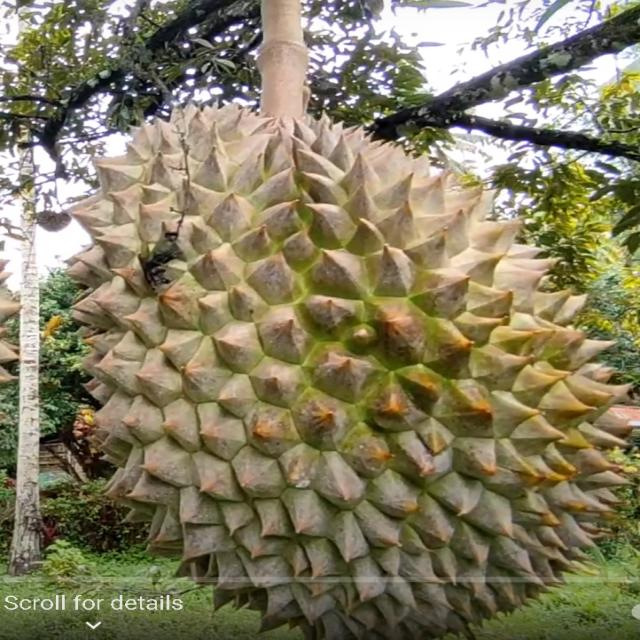immature: (63, 101, 639, 640)
